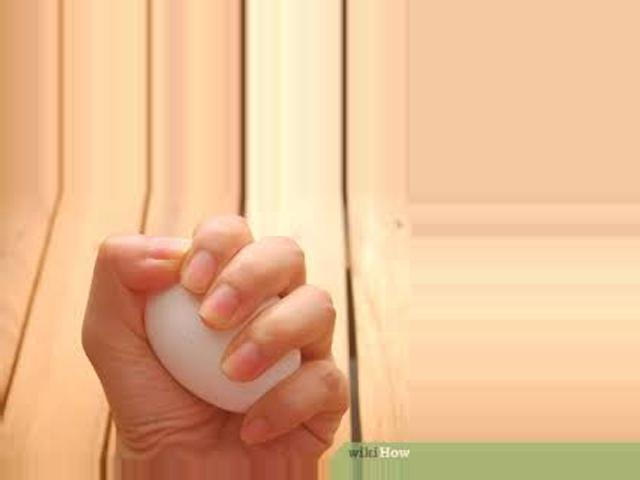egg: (143, 284, 302, 413)
